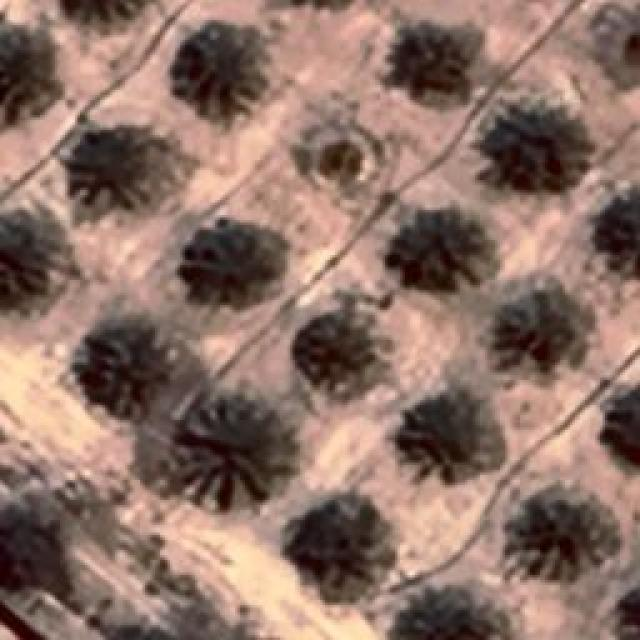PalmTree: (175, 392, 288, 510), (395, 202, 500, 306), (500, 490, 618, 580), (72, 119, 170, 214), (374, 584, 522, 640), (302, 504, 386, 602), (81, 324, 169, 416), (492, 92, 576, 186), (411, 398, 499, 478), (506, 281, 579, 371), (188, 235, 270, 310), (181, 30, 256, 110), (0, 204, 58, 302), (0, 26, 65, 109), (300, 322, 372, 390), (398, 25, 456, 103), (595, 178, 640, 276), (598, 387, 640, 474), (54, 0, 154, 33), (609, 584, 639, 640)
